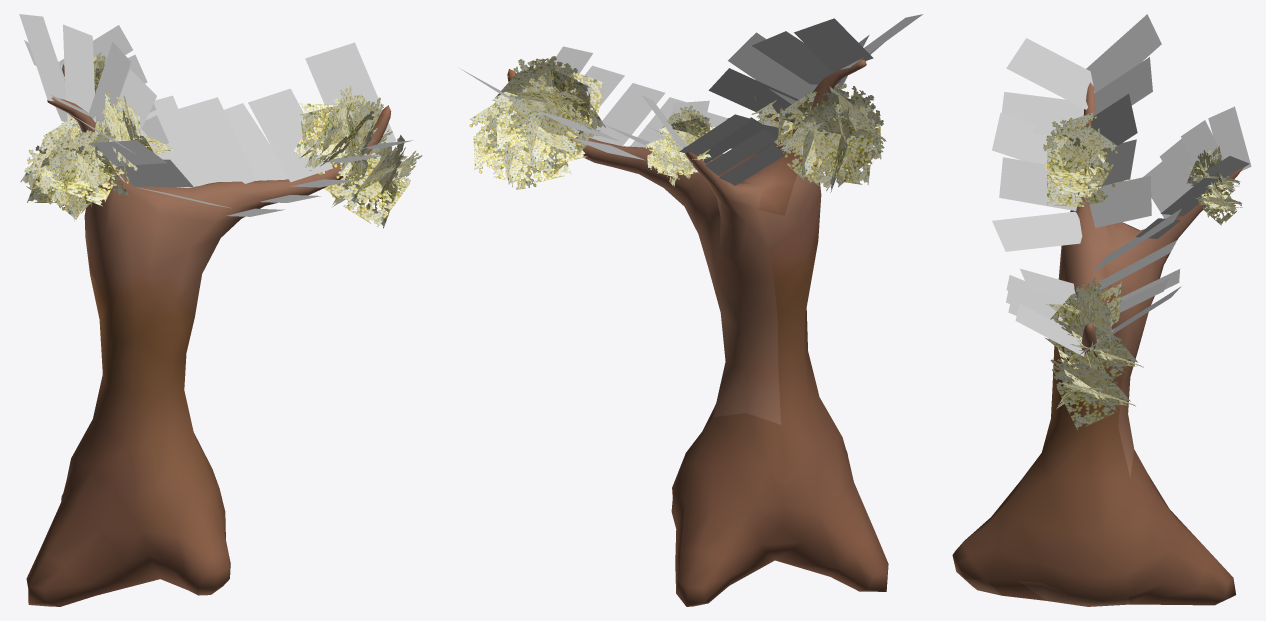
File: sabugueiro.fbx
3 renders of one model, left to right at view 1: azimuth 30°, elevation 25°; view 2: azimuth 150°, elevation 25°; view 3: azimuth 270°, elevation 25°, orthographic. The views are drawn at different scales.
Visible parts, largest first — view 1: Sabugueiro, sabugueiroFolha2, floressabugueiro; view 2: Sabugueiro, floressabugueiro, sabugueiroFolha2; view 3: Sabugueiro, sabugueiroFolha2, floressabugueiro.
Part boxes in pixels (x1,y1,x2,y2): Sabugueiro: (26, 64, 391, 606); sabugueiroFolha2: (19, 14, 412, 216); floressabugueiro: (20, 52, 422, 228); Sabugueiro: (507, 59, 888, 606); floressabugueiro: (469, 56, 886, 192); sabugueiroFolha2: (458, 14, 923, 185); Sabugueiro: (952, 82, 1242, 606); sabugueiroFolha2: (992, 14, 1251, 356); floressabugueiro: (1043, 112, 1242, 430).
Size of the model in its own units: 58.3 by 78.26 by 38.4.
